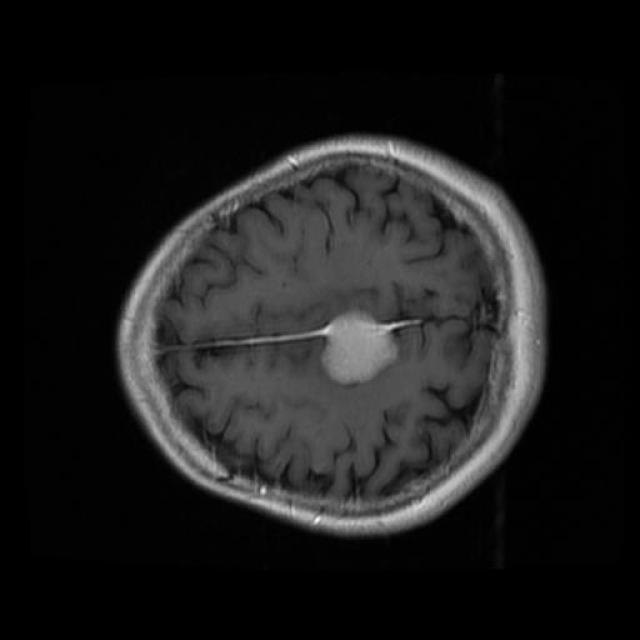Meningioma: (321, 313, 397, 384)
